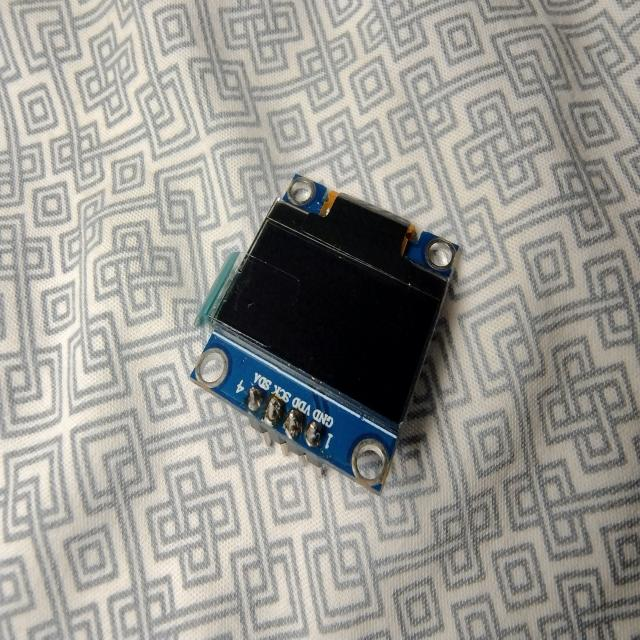oled: (182, 162, 474, 509)
